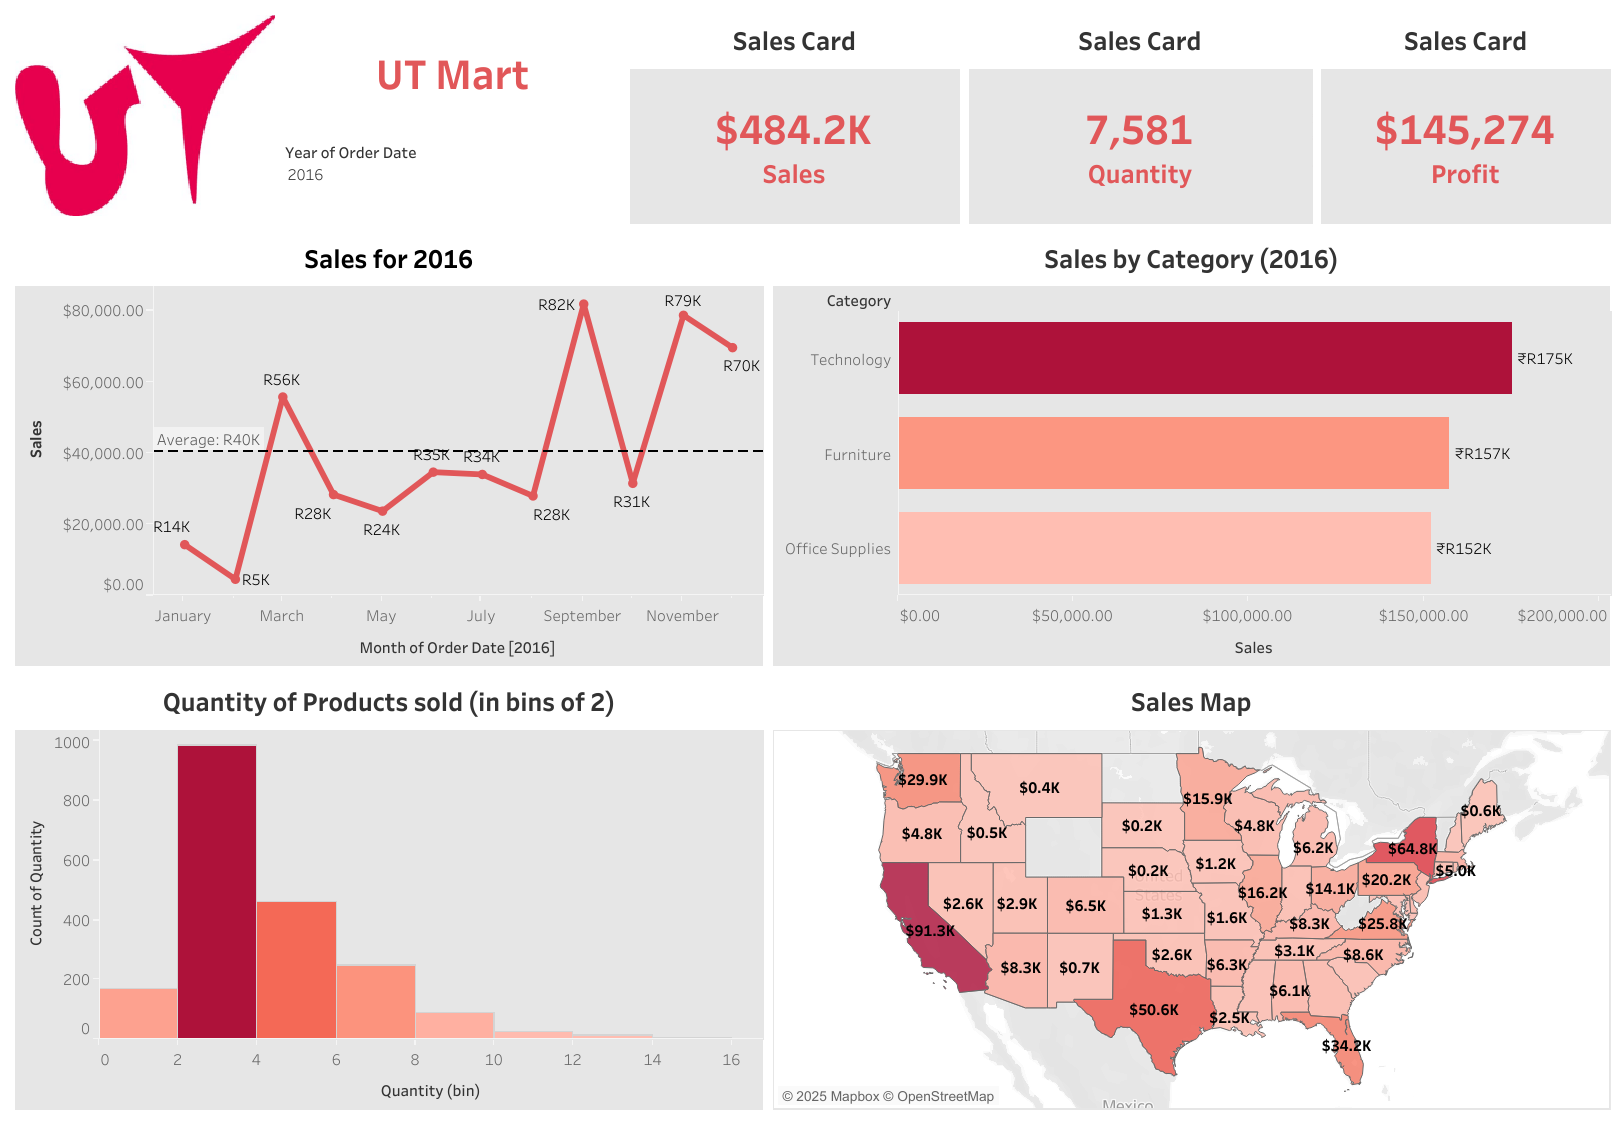

The dashboard page shown, as its layout file describes it:
{"tool":"tableau","page":{"name":"Dashboard 1","canvas":[1300,900],"ordinal":0},"visuals":[{"type":"image","param":"Image/Ut logo2.jpg","box":[8,8,216,174]},{"type":"text","box":[224,8,276,99]},{"type":"worksheet","title":"Sales Card","mark":"Automatic","box":[500,8,271,174]},{"type":"worksheet","title":"Quantity Card","mark":"Automatic","box":[771,8,282,174]},{"type":"worksheet","title":"Profit Card","mark":"Automatic","box":[1053,8,239,174]},{"type":"filter","title":"Yearly Sales","param":"[federated.0ydi4nv0x7c8sk165enel1cm0tqa].[yr:Order Date:ok]","box":[224,107,276,75]},{"type":"worksheet","title":"Yearly Sales","mark":"Line","rows":["Sales"],"cols":["Order Date"],"box":[8,182,606,355]},{"type":"worksheet","title":"Sales by Category","mark":"Automatic","rows":["Category"],"cols":["Sales"],"box":[614,182,678,355]},{"type":"worksheet","title":"Products sold per order","mark":"Automatic","rows":["Quantity"],"cols":["Quantity (bin)"],"box":[8,537,606,355]},{"type":"worksheet","title":"Sales Map","mark":"Automatic","box":[614,537,678,355]}]}

Visuals, with their boxes in screenshot pixels (x1, y1, x2, y2), scaled from the page's 1300x900 canvas onto the 1624x1124 screenshot:
image: locate(10, 10, 280, 227)
text: locate(280, 10, 625, 134)
"Sales Card" worksheet: locate(625, 10, 963, 227)
"Quantity Card" worksheet: locate(963, 10, 1315, 227)
"Profit Card" worksheet: locate(1315, 10, 1614, 227)
"Yearly Sales" filter: locate(280, 134, 625, 227)
"Yearly Sales" worksheet (Line marks): locate(10, 227, 767, 671)
"Sales by Category" worksheet: locate(767, 227, 1614, 671)
"Products sold per order" worksheet: locate(10, 671, 767, 1114)
"Sales Map" worksheet: locate(767, 671, 1614, 1114)
